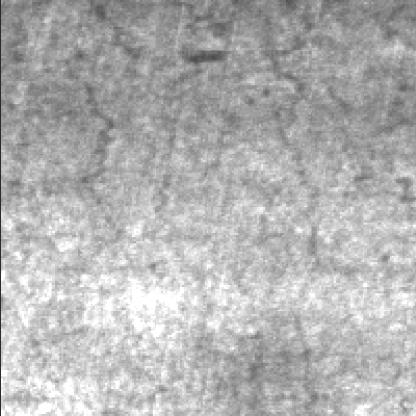crazing: (212, 2, 320, 416), (66, 2, 209, 237), (327, 2, 416, 206)
